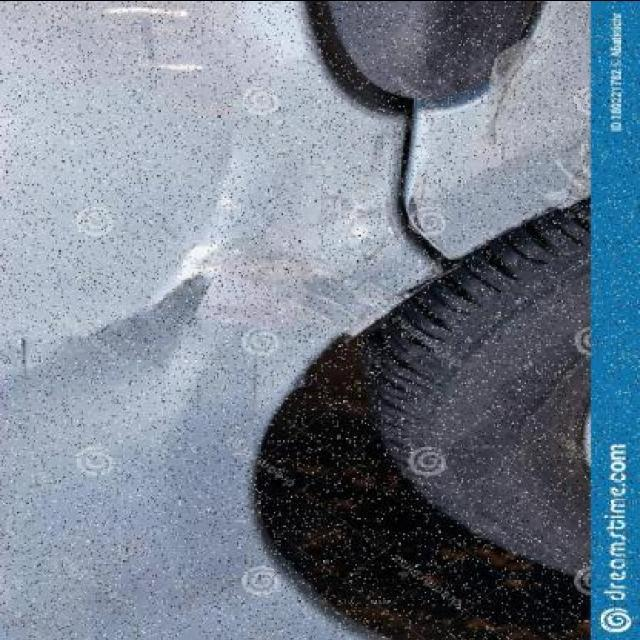fender-dent: (3, 88, 453, 640)
